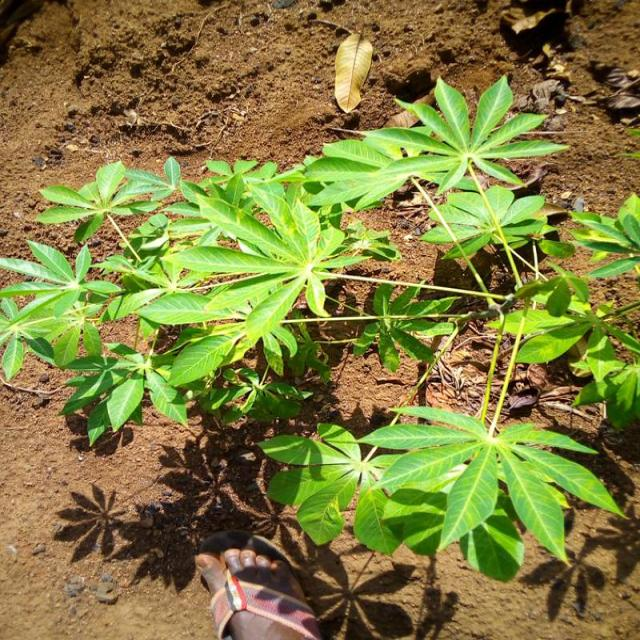cassava leaf: (0, 72, 638, 580), (258, 404, 628, 582), (333, 30, 373, 113)
